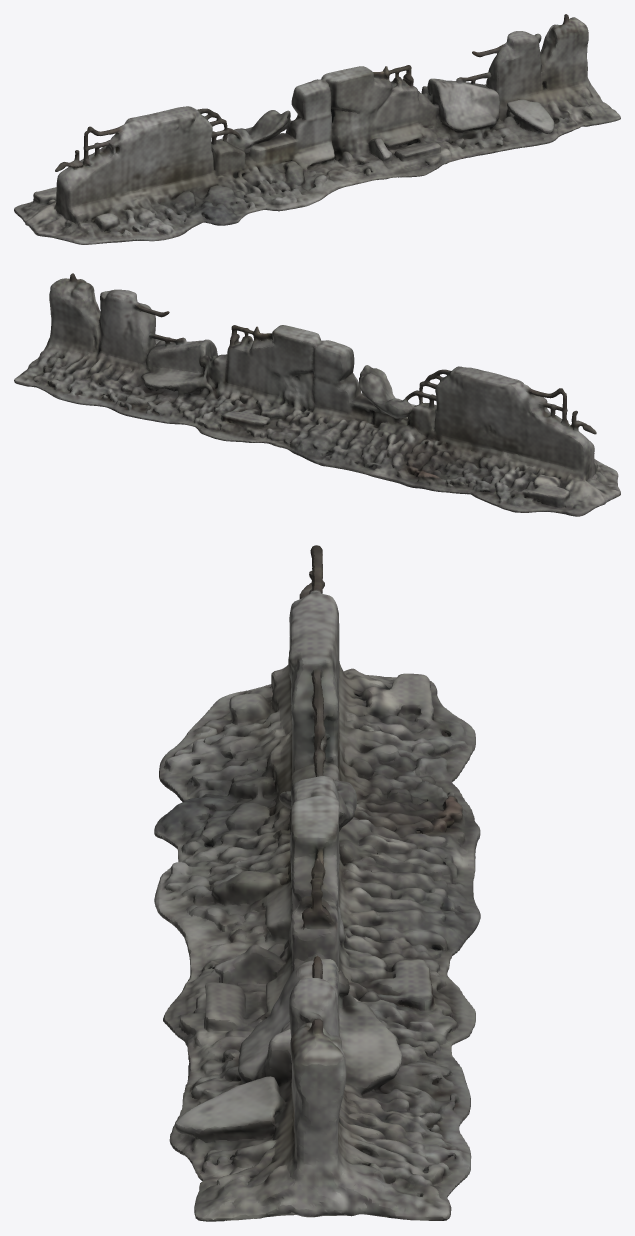
Rendered from rubble_wall.glb.
The picture shows the model from 3 angles, top to bottom: view 1: azimuth 30°, elevation 25°; view 2: azimuth 150°, elevation 25°; view 3: azimuth 270°, elevation 25°; orthographic projection. The views are drawn at different scales.
Parts seen in each view (by area): view 1: world; view 2: world; view 3: world.
Part boxes in pixels (x1,y1,x2,y2): world: (14,14,620,244); world: (14,273,620,516); world: (154,545,480,1221).
Bounding box in the file's own units: 3.5 × 0.5608 × 0.8842.
1 material, 1 textured.
